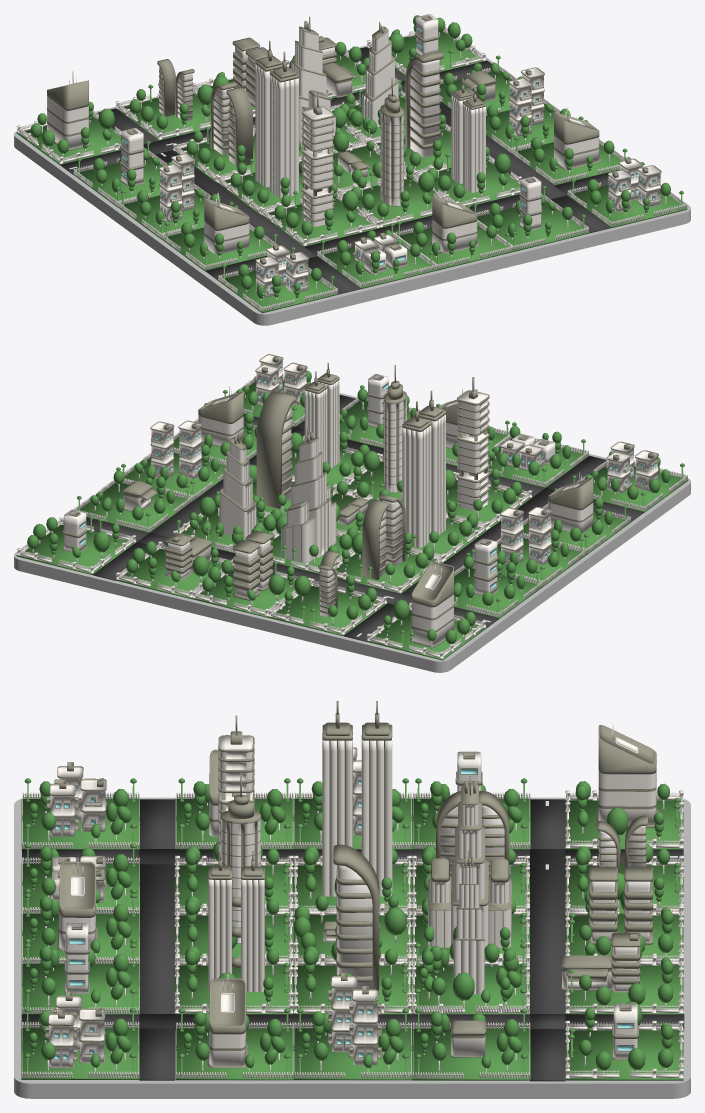
Rendered from world.glb.
3 views of the same model, one above another, from view 1: azimuth 30°, elevation 25°; view 2: azimuth 150°, elevation 25°; view 3: azimuth 270°, elevation 25° (orthographic). The views are drawn at different scales.
Parts seen in each view (by area): view 1: Plane, road.011, b_skyscaper05, b_skyscaper01, base_for_L.012, b_skyscaper06, base_for_s_m.005, b_skyscaper02, base_for_L.002, base_for_L.006, base_for_s_m.001, b_skyscaper07 (+46 smaller); view 2: Plane, road.011, b_skyscaper04, base_for_L.003, b_skyscaper06, base_for_L.013, b_skyscaper05, b_skyscaper01.001, base_for_s_m.008, b_skyscaper07, base_for_L.001, base_for_L.002 (+45 smaller); view 3: road.011, Plane, b_skyscaper04, base_for_L.013, base_for_s_m.008, b_skyscaper02, b_skyscaper06, base_for_s_m.013, base_for_s_m.005, base_for_s_m.012, base_for_s_m.009, base_for_s_m.010 (+48 smaller).
Part boxes in pixels (x1,y1,x2,y2): Plane: (14, 35, 690, 325); road.011: (60, 47, 619, 294); b_skyscaper05: (301, 93, 333, 226); b_skyscaper01: (270, 51, 298, 197); base_for_L.012: (260, 183, 379, 246); b_skyscaper06: (405, 51, 443, 157); base_for_s_m.005: (473, 186, 589, 251); b_skyscaper02: (451, 78, 485, 192); base_for_L.002: (16, 101, 121, 164); base_for_L.006: (337, 165, 454, 227); base_for_s_m.001: (317, 223, 437, 288); b_skyscaper07: (210, 82, 252, 167); Plane: (14, 379, 690, 672); road.011: (63, 395, 643, 641); b_skyscaper04: (281, 428, 336, 562); base_for_L.003: (267, 575, 387, 636); b_skyscaper06: (256, 391, 295, 508); base_for_L.013: (16, 516, 136, 574); b_skyscaper05: (457, 377, 489, 510); b_skyscaper01.001: (402, 401, 431, 547); base_for_s_m.008: (74, 467, 193, 532); b_skyscaper07: (362, 494, 405, 579); base_for_L.001: (115, 541, 233, 599); base_for_L.002: (366, 599, 486, 660); road.011: (21, 799, 684, 1081); Plane: (14, 797, 690, 1098); b_skyscaper04: (428, 776, 511, 948); base_for_L.013: (565, 1001, 683, 1080); base_for_s_m.008: (412, 1008, 530, 1080); b_skyscaper02: (208, 851, 264, 991); b_skyscaper06: (333, 844, 379, 994); base_for_s_m.013: (293, 1008, 412, 1080); base_for_s_m.005: (21, 943, 139, 1014); base_for_s_m.012: (175, 1008, 293, 1080); base_for_s_m.009: (21, 1008, 139, 1079); base_for_s_m.010: (21, 778, 139, 850).
Size of the model in its own units: 114 by 38.38 by 114.
